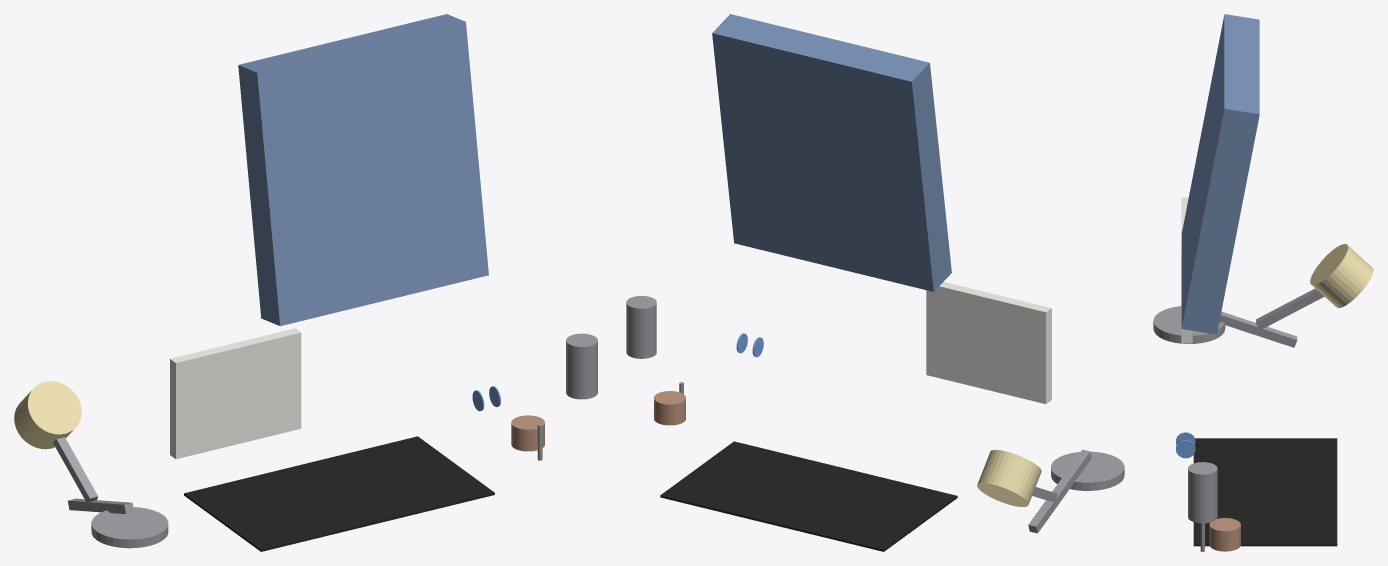
File: SK_Desk_01_AfterHours.fbx
The picture shows the model from 3 angles, left to right: view 1: azimuth 30°, elevation 25°; view 2: azimuth 150°, elevation 25°; view 3: azimuth 270°, elevation 25°; orthographic projection. The views are drawn at different scales.
Parts seen in each view (by area): view 1: AfterHours_Jacket, AfterHours_ScreenOff, AfterHours_OpenBook, AfterHours_LampShade, AfterHours_LampBase, AfterHours_EnergyDrink, AfterHours_WineGlass_Bowl, AfterHours_LampArm2, AfterHours_LampArm1; view 2: AfterHours_Jacket, AfterHours_ScreenOff, AfterHours_OpenBook, AfterHours_LampShade, AfterHours_LampBase, AfterHours_EnergyDrink, AfterHours_LampArm1, AfterHours_WineGlass_Bowl; view 3: AfterHours_Jacket, AfterHours_ScreenOff, AfterHours_LampShade, AfterHours_EnergyDrink, AfterHours_LampBase, AfterHours_WineGlass_Bowl, AfterHours_LampArm1, AfterHours_LampArm2, AfterHours_OpenBook, AfterHours_Glasses_Lens_1.
Part boxes in pixels (x1,y1,x2,y2): AfterHours_Jacket: [238, 14, 488, 326]; AfterHours_ScreenOff: [184, 436, 494, 551]; AfterHours_OpenBook: [170, 328, 301, 459]; AfterHours_LampShade: [14, 381, 81, 449]; AfterHours_LampBase: [91, 507, 168, 548]; AfterHours_EnergyDrink: [566, 333, 597, 399]; AfterHours_WineGlass_Bowl: [511, 415, 544, 451]; AfterHours_LampArm2: [53, 437, 98, 503]; AfterHours_LampArm1: [68, 498, 134, 513]; AfterHours_Jacket: [712, 14, 951, 291]; AfterHours_ScreenOff: [660, 441, 957, 551]; AfterHours_OpenBook: [926, 282, 1051, 403]; AfterHours_LampShade: [977, 450, 1041, 506]; AfterHours_LampBase: [1051, 451, 1124, 490]; AfterHours_EnergyDrink: [626, 296, 656, 358]; AfterHours_LampArm1: [1028, 449, 1091, 533]; AfterHours_WineGlass_Bowl: [654, 391, 685, 425]; AfterHours_Jacket: [1181, 14, 1259, 334]; AfterHours_ScreenOff: [1193, 438, 1337, 546]; AfterHours_LampShade: [1310, 244, 1373, 308]; AfterHours_EnergyDrink: [1188, 462, 1217, 523]; AfterHours_LampBase: [1153, 306, 1225, 343]; AfterHours_WineGlass_Bowl: [1209, 518, 1240, 551]; AfterHours_LampArm1: [1219, 311, 1297, 347]; AfterHours_LampArm2: [1256, 288, 1324, 329]; AfterHours_OpenBook: [1181, 197, 1192, 343]; AfterHours_Glasses_Lens_1: [1176, 440, 1195, 458].
Bounding box in the file's own units: 121 × 106 × 49.07.
